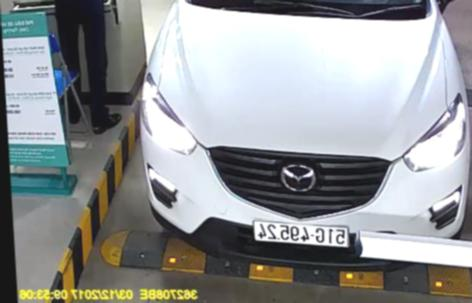License_Plate: (252, 221, 354, 246)
